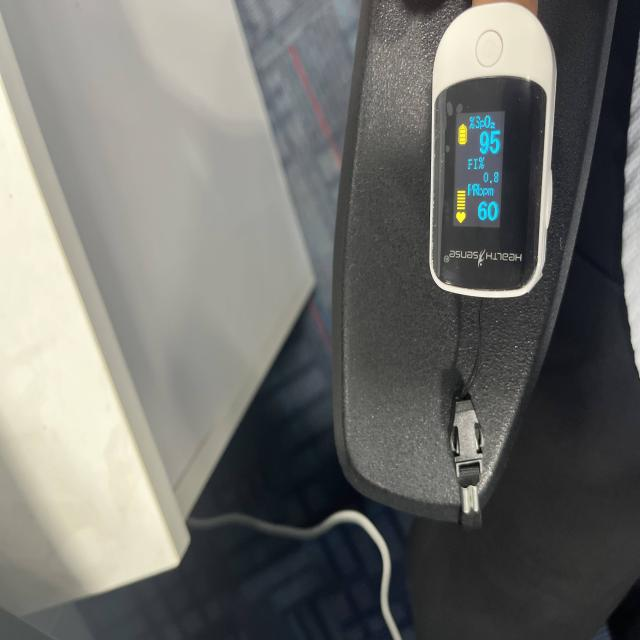spo2: (339, 0, 559, 531)
